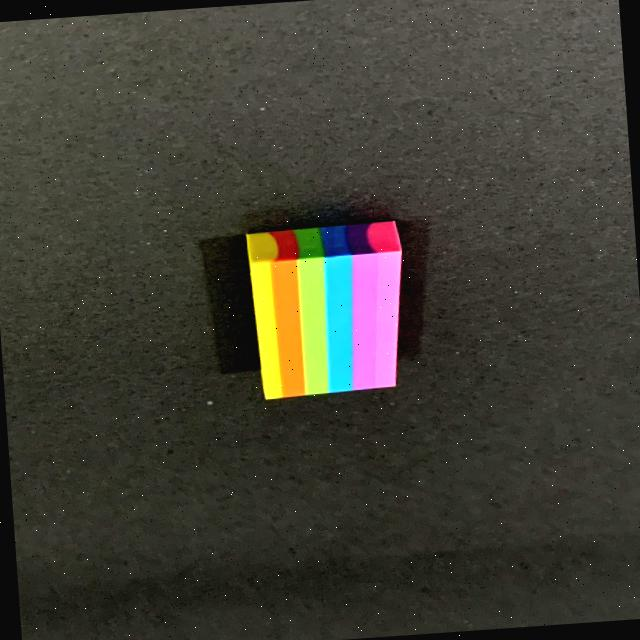Eraser: (204, 192, 460, 429)
